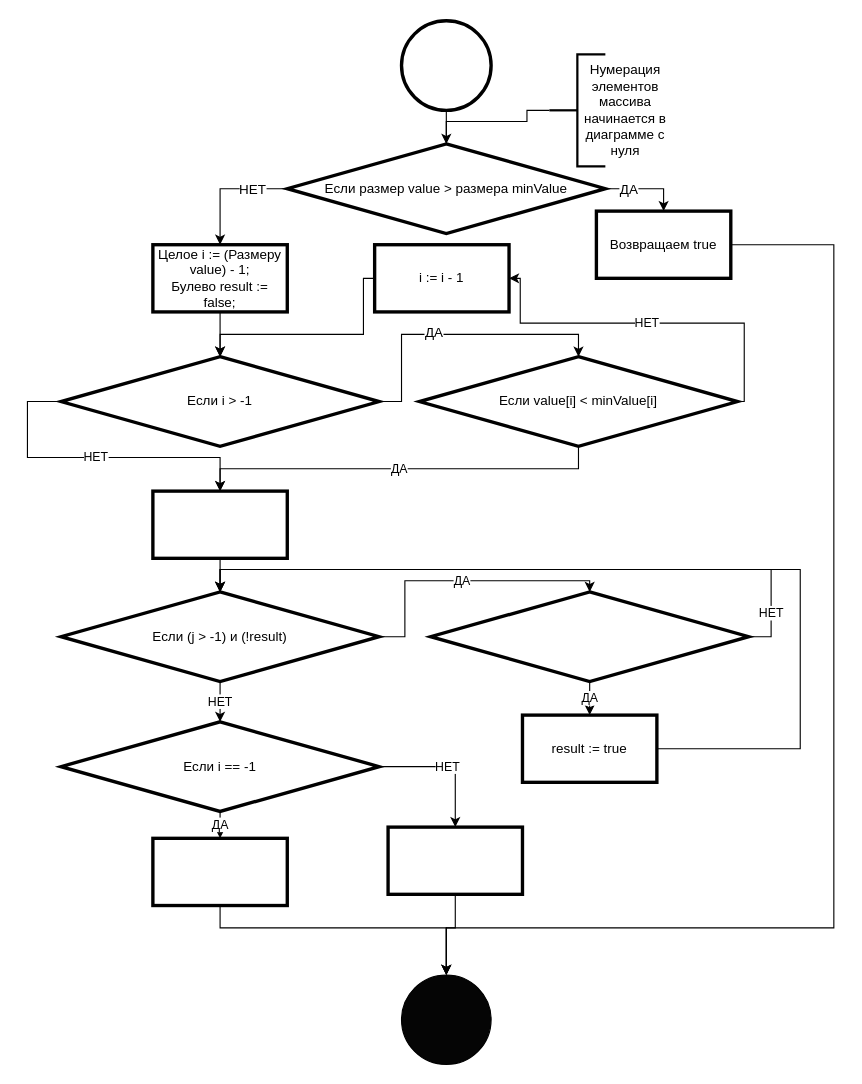
Some shapes in this 862 by 1084 pixel diagram are drawn without their labels. Here are the shapes that lost their labels. From the top down, the box of each, then its label:
(151, 489, 288, 559): Целое j := (Размеру maxValue) - 1;
(428, 590, 750, 683): Если value[j] != minValue[j]
(151, 836, 288, 907): Возвращаем result
(386, 825, 524, 895): Возвращаем false
